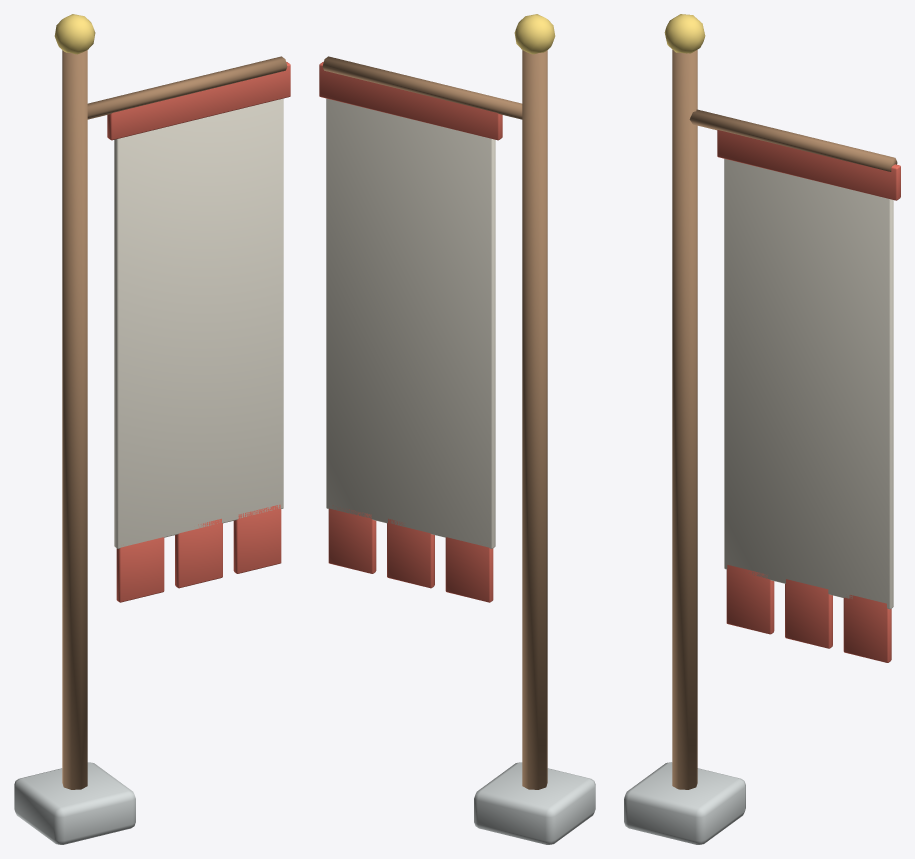
The model's file is banner.glb.
The picture shows the model from 3 angles, left to right: view 1: azimuth 30°, elevation 25°; view 2: azimuth 150°, elevation 25°; view 3: azimuth 330°, elevation 25°; orthographic projection.
Parts seen in each view (by area): view 1: Cloth, Pole, Base, ClothTop, Arm, Tail2, Tail1, Tail0, Knob; view 2: Cloth, Pole, Base, ClothTop, Arm, Tail2, Tail1, Tail0, Knob; view 3: Cloth, Pole, Base, ClothTop, Arm, Tail0, Tail2, Tail1, Knob.
Boxes of the visible parts, bbox=[...] form: Cloth: bbox=[114, 98, 283, 548]; Pole: bbox=[62, 50, 87, 789]; Base: bbox=[14, 762, 135, 844]; ClothTop: bbox=[107, 62, 290, 140]; Arm: bbox=[87, 56, 287, 119]; Tail2: bbox=[233, 504, 281, 573]; Tail1: bbox=[175, 518, 222, 588]; Tail0: bbox=[116, 537, 164, 602]; Knob: bbox=[54, 14, 95, 54]; Cloth: bbox=[326, 98, 495, 548]; Pole: bbox=[522, 50, 547, 789]; Base: bbox=[474, 762, 595, 844]; ClothTop: bbox=[319, 62, 502, 140]; Arm: bbox=[322, 56, 522, 119]; Tail2: bbox=[328, 505, 376, 573]; Tail1: bbox=[387, 518, 434, 588]; Tail0: bbox=[445, 537, 493, 602]; Knob: bbox=[514, 14, 555, 54]; Cloth: bbox=[724, 159, 893, 609]; Pole: bbox=[672, 50, 697, 789]; Base: bbox=[624, 762, 745, 844]; ClothTop: bbox=[717, 130, 900, 200]; Arm: bbox=[689, 109, 897, 171]; Tail0: bbox=[726, 565, 774, 634]; Tail2: bbox=[843, 595, 891, 662]; Tail1: bbox=[785, 579, 832, 648]; Knob: bbox=[664, 14, 705, 53].
Size of the model in its own units: 1.13 by 3.42 by 0.36.
